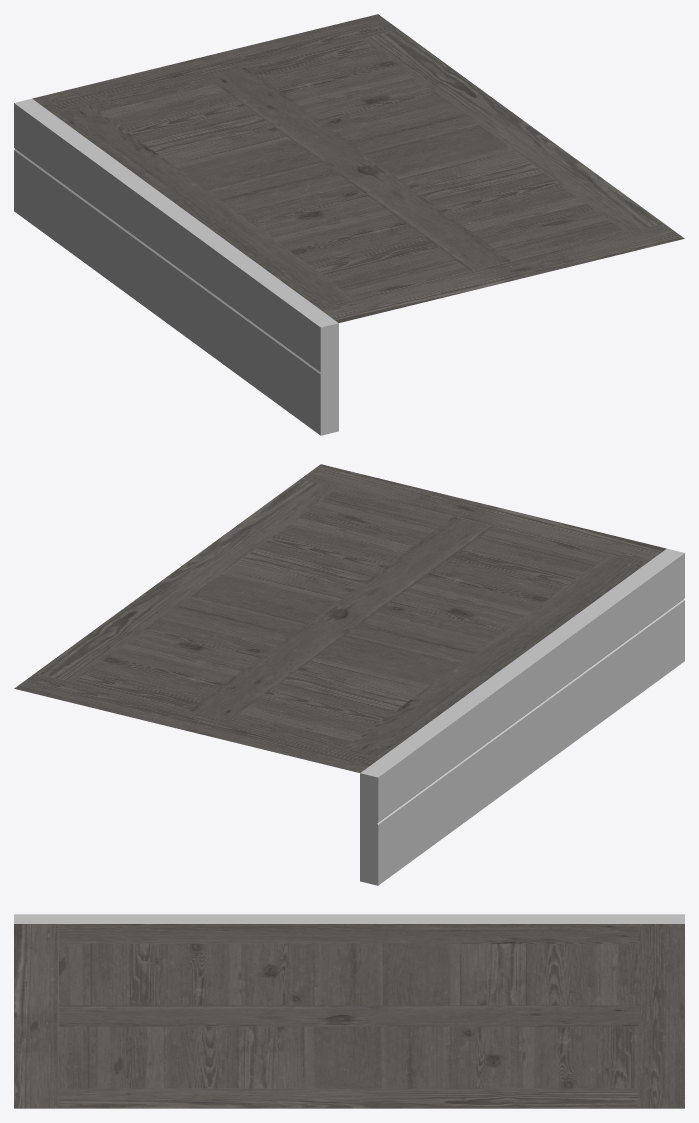
Rendered from SM_Floor01C.fbx.
The picture shows the model from 3 angles, top to bottom: view 1: azimuth 30°, elevation 25°; view 2: azimuth 150°, elevation 25°; view 3: azimuth 270°, elevation 25°; orthographic projection. The views are drawn at different scales.
Parts seen in each view (by area): view 1: SM_Floor01C; view 2: SM_Floor01C; view 3: SM_Floor01C.
Boxes of the visible parts, box(x1,y1,x2,y2) form: SM_Floor01C: box(14, 14, 684, 435); SM_Floor01C: box(14, 464, 684, 885); SM_Floor01C: box(14, 914, 684, 1108).
Bounding box in the file's own units: 172 × 251 × 48.84.
